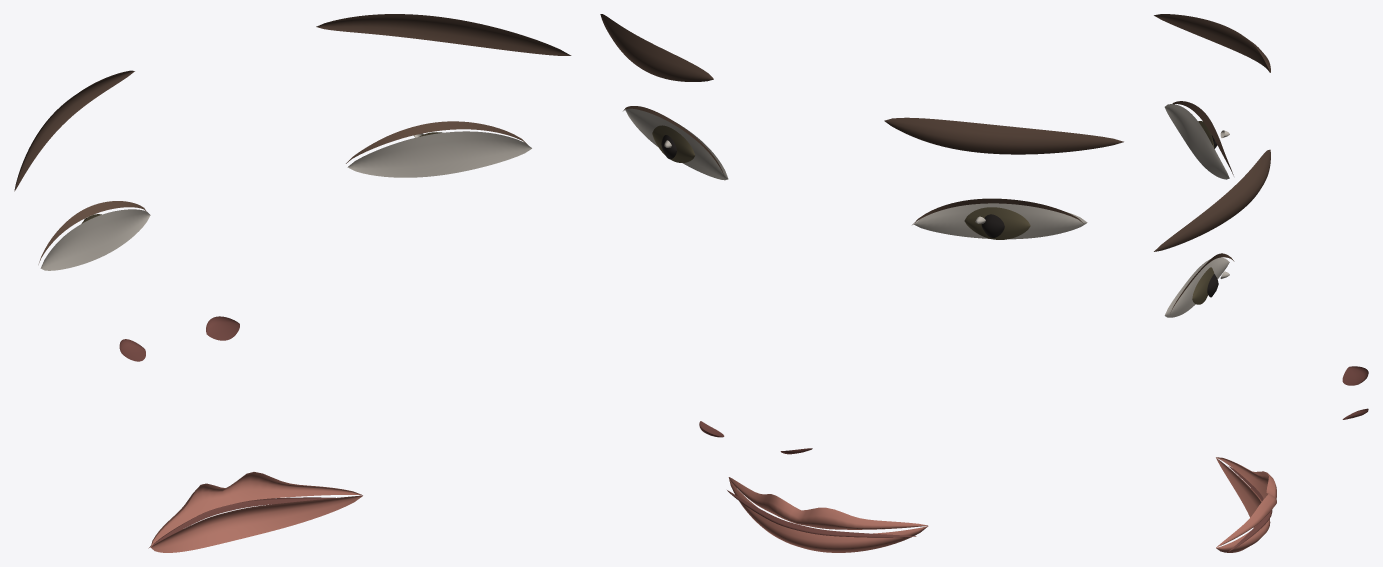
The model's file is Portrait.glb.
3 views of the same model, side by side, from view 1: azimuth 30°, elevation 25°; view 2: azimuth 150°, elevation 25°; view 3: azimuth 270°, elevation 25° (orthographic). The views are drawn at different scales.
Visible parts, largest first — view 1: Facial features; view 2: Facial features; view 3: Facial features.
Boxes of the visible parts, left/top/right/bottom form: Facial features: left=14, top=14, right=571, bottom=552; Facial features: left=600, top=14, right=1123, bottom=552; Facial features: left=1154, top=14, right=1368, bottom=552.
Size of the model in its own units: 0.136 by 0.1146 by 0.0523.
